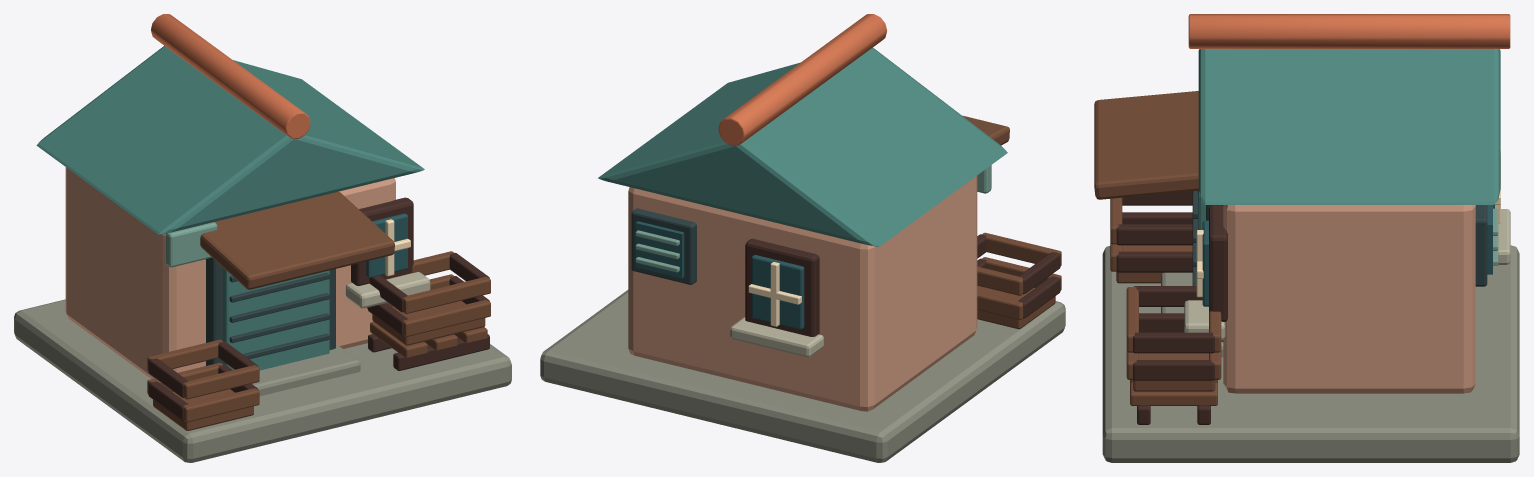
File: depot.glb
The picture shows the model from 3 angles, left to right: view 1: azimuth 30°, elevation 25°; view 2: azimuth 150°, elevation 25°; view 3: azimuth 270°, elevation 25°; orthographic projection. The views are drawn at different scales.
Visible parts, largest first — view 1: depot · copper, depot · stone, depot · wood_light, depot · plaster_rose, depot · wood, depot · tile_light, depot · metal, depot · copper_light, depot · stone_light, depot · window, depot · plaster_light; view 2: depot · plaster_rose, depot · copper, depot · stone, depot · tile_light, depot · wood_light, depot · wood, depot · window, depot · metal, depot · stone_light, depot · copper_light, depot · plaster_light; view 3: depot · copper, depot · plaster_rose, depot · stone, depot · wood_light, depot · wood, depot · tile_light, depot · metal, depot · stone_light, depot · window, depot · plaster_light.
Part boxes in pixels (x1,y1,x2,y2): depot · copper: (36, 45, 424, 370); depot · stone: (14, 299, 511, 462); depot · wood_light: (147, 192, 490, 430); depot · plaster_rose: (65, 167, 395, 379); depot · wood: (148, 197, 489, 420); depot · tile_light: (151, 14, 310, 138); depot · metal: (206, 257, 335, 365); depot · copper_light: (165, 222, 217, 267); depot · stone_light: (345, 272, 430, 308); depot · window: (366, 213, 407, 277); depot · plaster_light: (385, 219, 410, 276); depot · plaster_rose: (628, 175, 977, 411); depot · copper: (598, 47, 1007, 246); depot · stone: (540, 290, 1065, 462); depot · tile_light: (718, 14, 886, 145); depot · wood_light: (962, 115, 1061, 329); depot · wood: (745, 234, 1060, 336); depot · window: (635, 221, 804, 329); depot · metal: (631, 208, 696, 284); depot · stone_light: (730, 317, 823, 357); depot · copper_light: (635, 165, 991, 272); depot · plaster_light: (748, 262, 801, 326); depot · copper: (1198, 49, 1500, 229); depot · plaster_rose: (1223, 205, 1475, 393); depot · stone: (1102, 245, 1519, 462); depot · wood_light: (1094, 91, 1221, 405); depot · wood: (1116, 191, 1227, 424); depot · tile_light: (1188, 14, 1510, 48); depot · metal: (1192, 191, 1487, 341); depot · stone_light: (1184, 209, 1510, 340); depot · window: (1202, 204, 1494, 306); depot · plaster_light: (1196, 151, 1500, 297).
Size of the model in its own units: 0.82 by 0.6965 by 0.7753.
